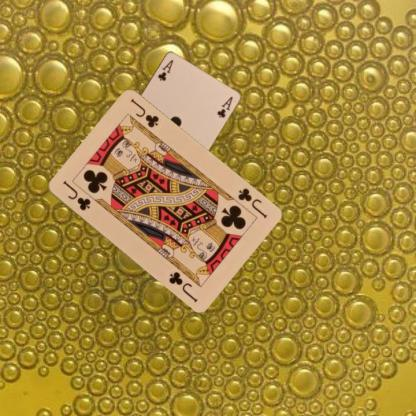Ac: (155, 57, 174, 82)
Jc: (59, 177, 92, 212), (235, 185, 268, 220)
